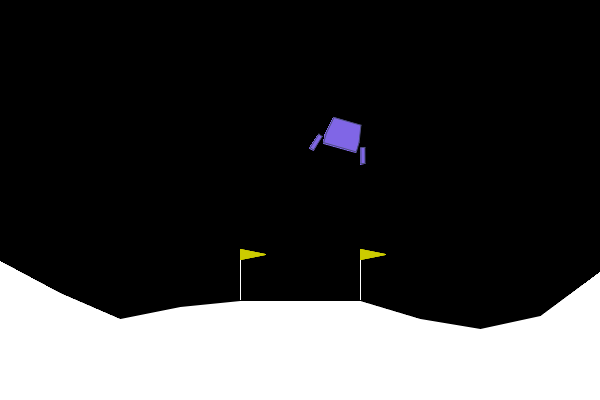lander: (308, 111, 376, 166)
